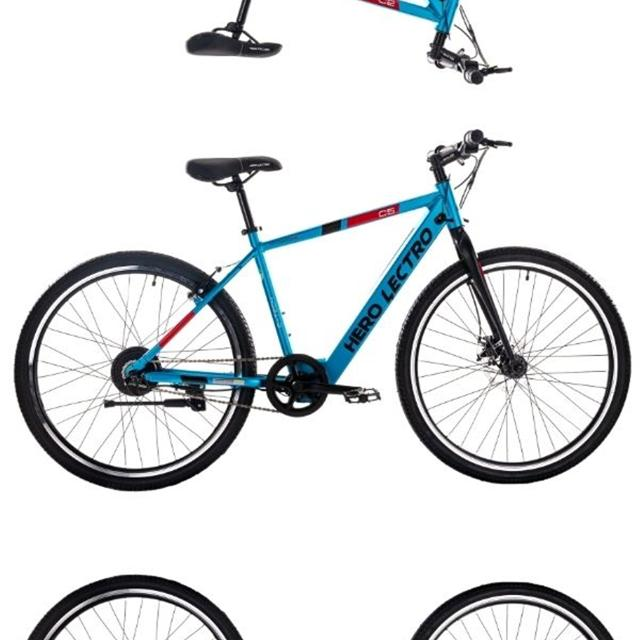obstacle: (14, 116, 634, 484), (14, 0, 633, 96), (14, 580, 633, 640)
